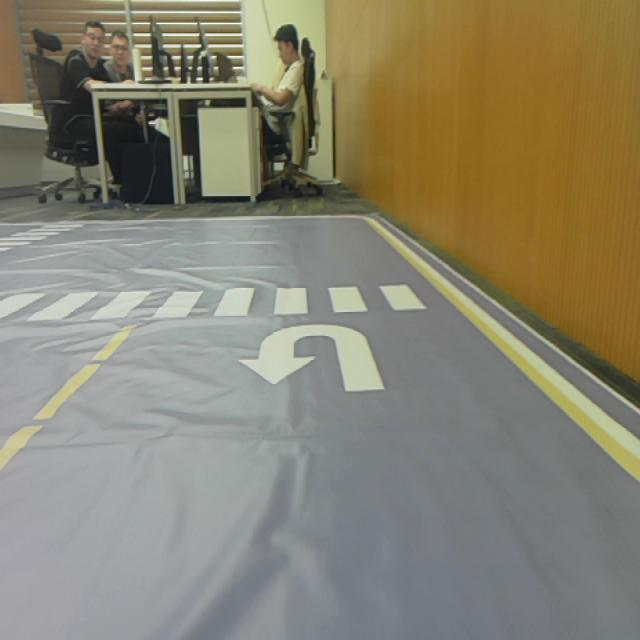left_lane: (0, 324, 132, 472)
right_lane: (365, 219, 640, 487)
